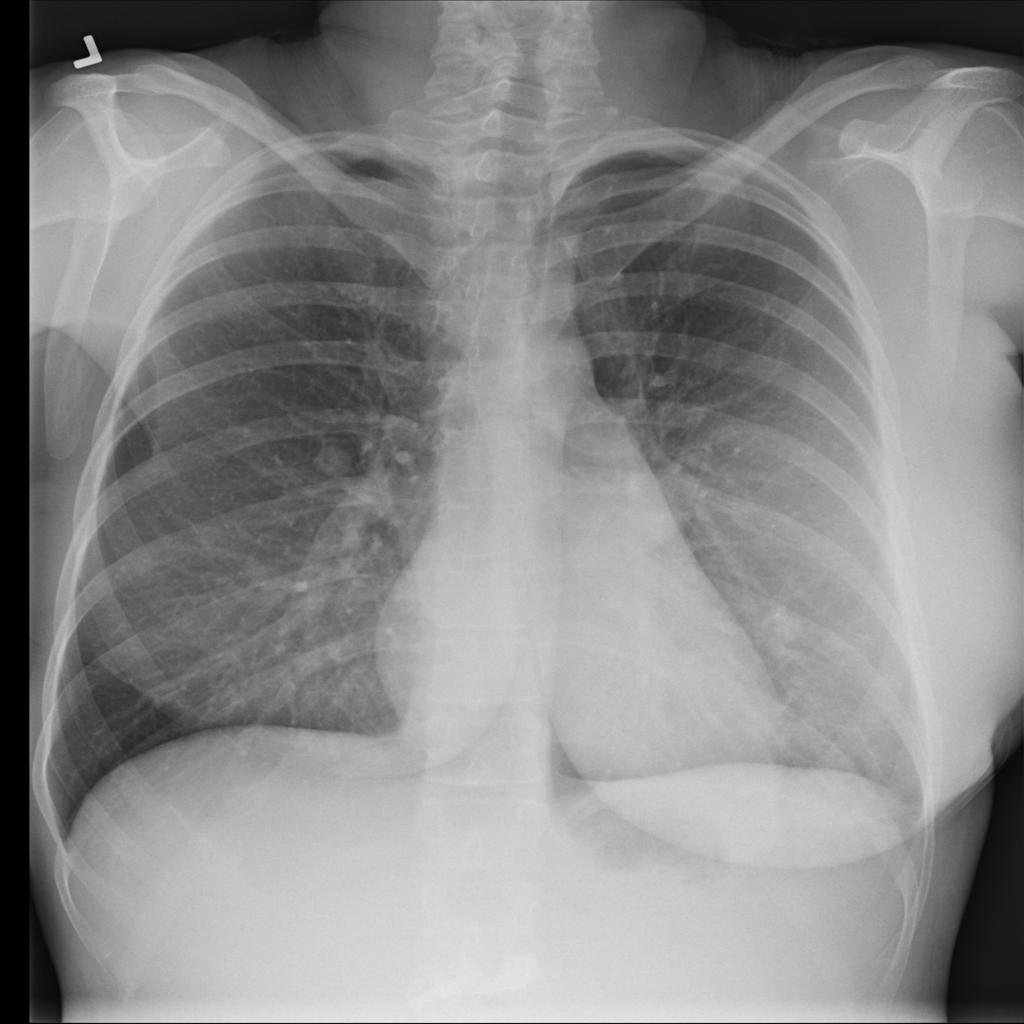nodule: (745, 588, 820, 658), (305, 433, 362, 481)
